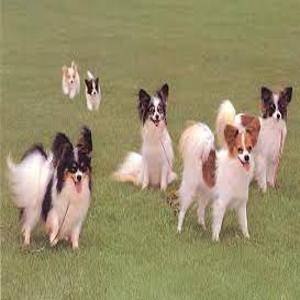yell: (60, 60, 81, 98)
